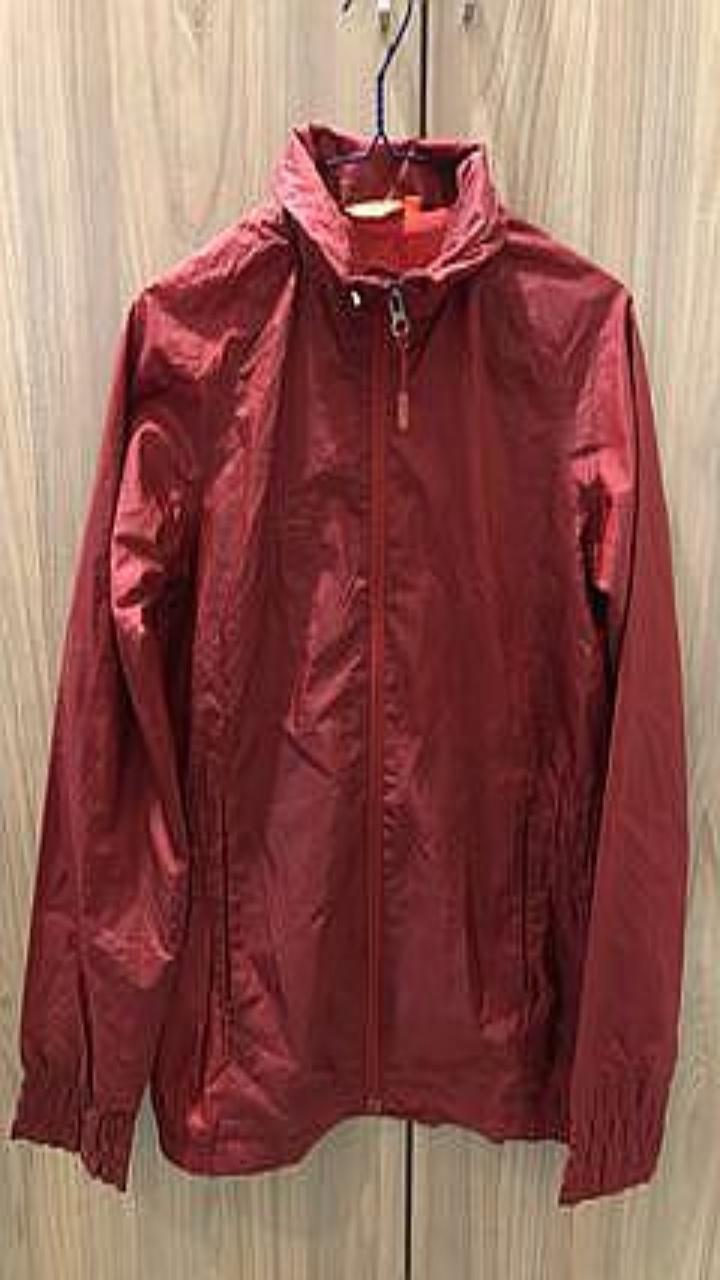Sports_Jacket: (11, 121, 688, 1204)
